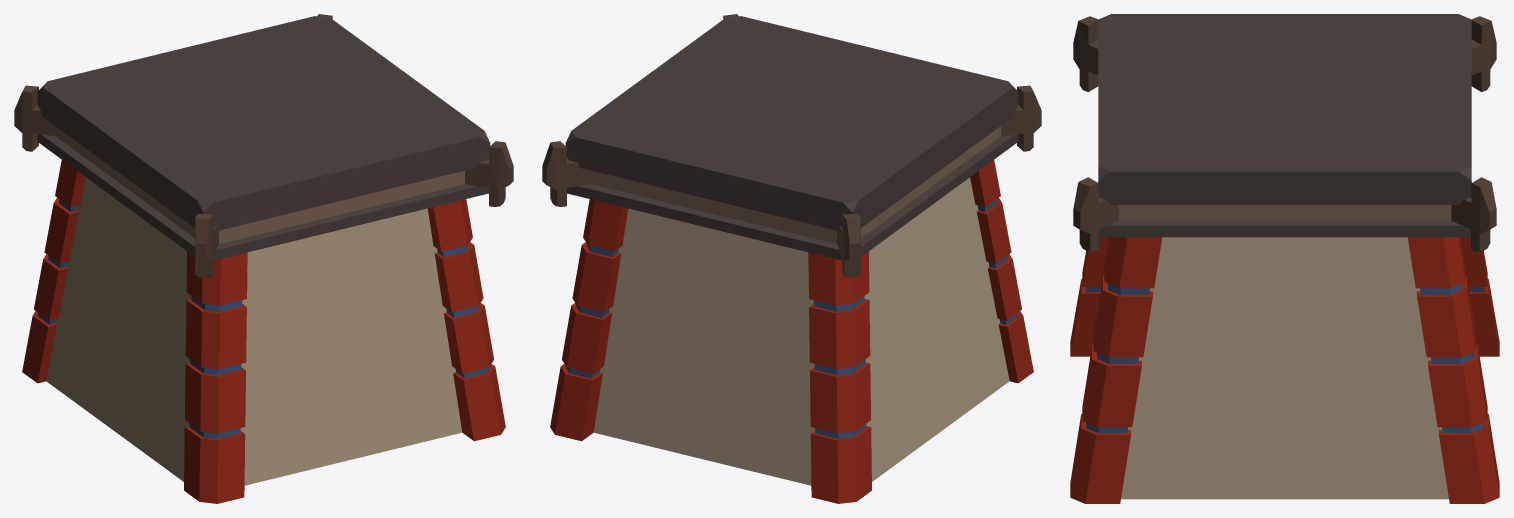
Rendered from Building_8.fbx.
3 views of the same model, side by side, from view 1: azimuth 30°, elevation 25°; view 2: azimuth 150°, elevation 25°; view 3: azimuth 270°, elevation 25° (orthographic). The views are drawn at different scales.
Parts seen in each view (by area): view 1: Building_8; view 2: Building_8; view 3: Building_8.
Part boxes in pixels (x1,y1,x2,y2): Building_8: (14,14,513,503); Building_8: (542,14,1041,503); Building_8: (1070,14,1499,503).
Size of the model in its own units: 5.47 by 4.78 by 5.69.
